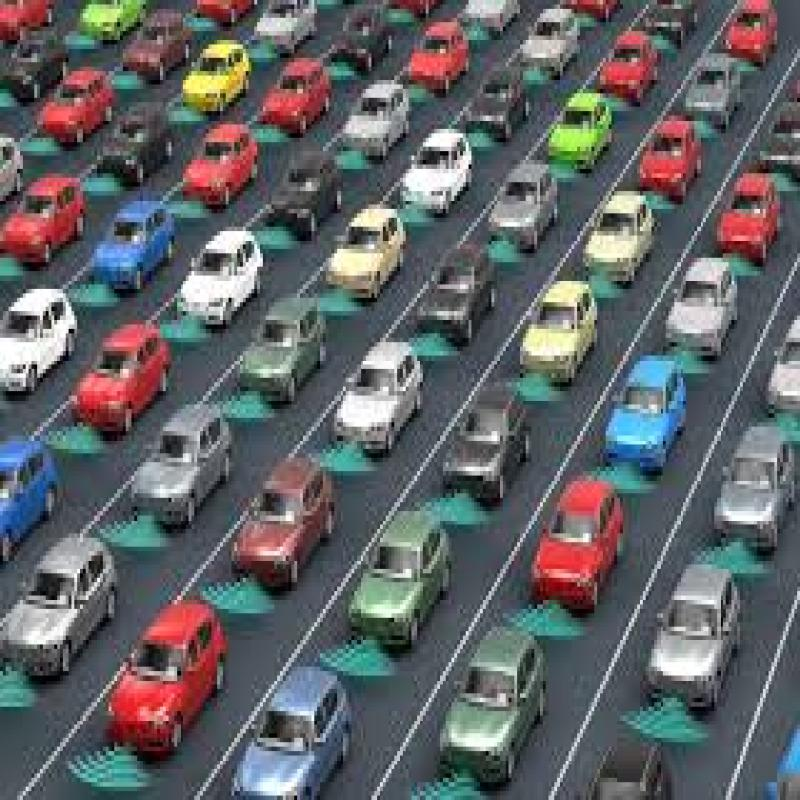car: (446, 628, 558, 800), (131, 400, 238, 566), (644, 544, 739, 722), (547, 449, 639, 610), (120, 601, 212, 756), (239, 656, 333, 800), (21, 516, 115, 655), (333, 326, 422, 469), (455, 372, 539, 515), (358, 491, 433, 643), (246, 446, 314, 604), (519, 270, 600, 401), (80, 324, 163, 447), (237, 292, 320, 414), (334, 199, 409, 325), (728, 399, 799, 531), (424, 237, 493, 370), (610, 349, 682, 466), (587, 182, 661, 294), (673, 244, 736, 367), (195, 210, 254, 338), (103, 192, 167, 298), (412, 127, 476, 232), (0, 427, 58, 535), (266, 142, 323, 244), (487, 153, 543, 228)
